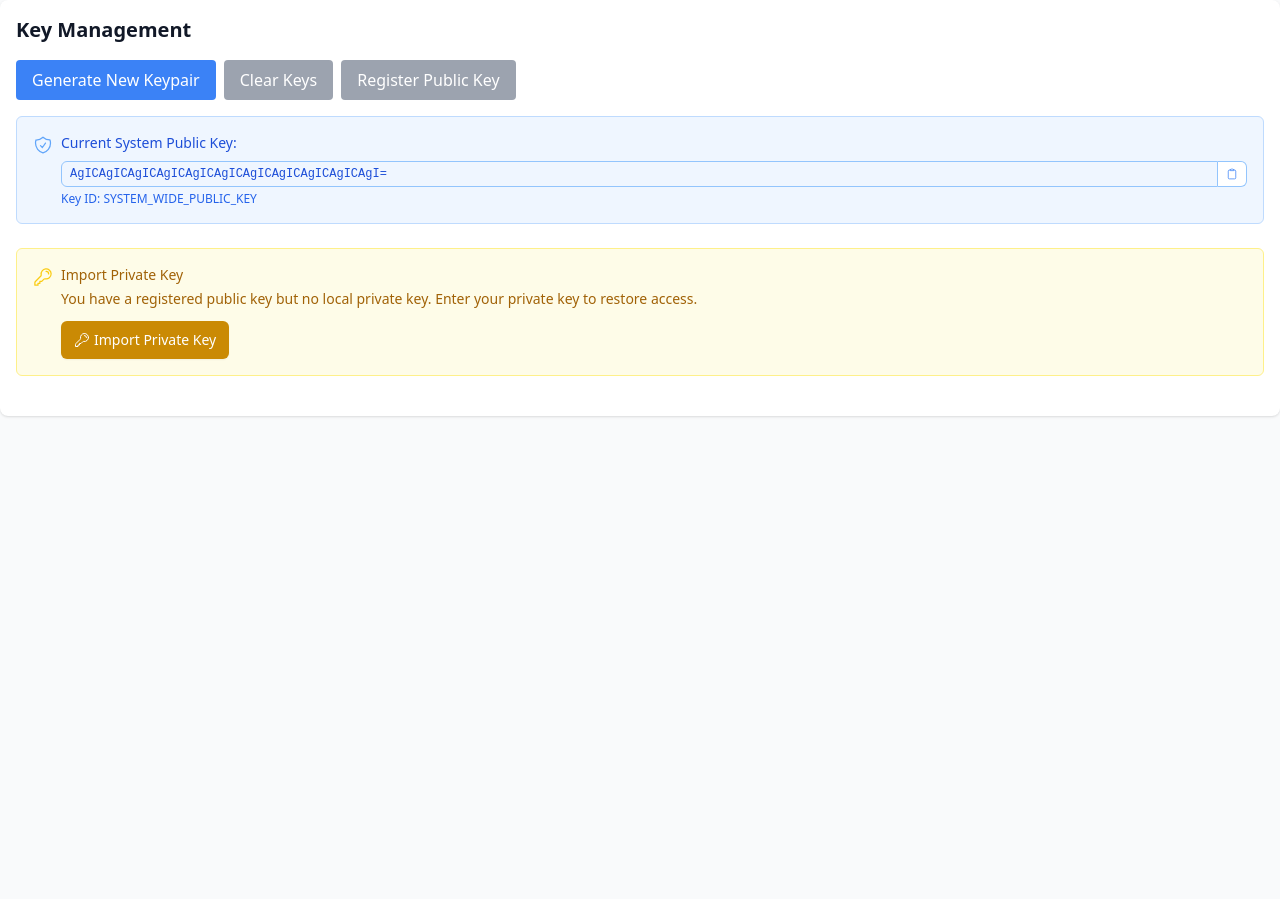
Test: Key lifecycle workflow › shows security warnings for private key handling
The width and height of the screenshot is (1280, 899).
# Generate a new keypair to see private key security warning
Click the button "Generate New Keypair". click: [116, 80]
box: x1=16 y1=60 x2=216 y2=100
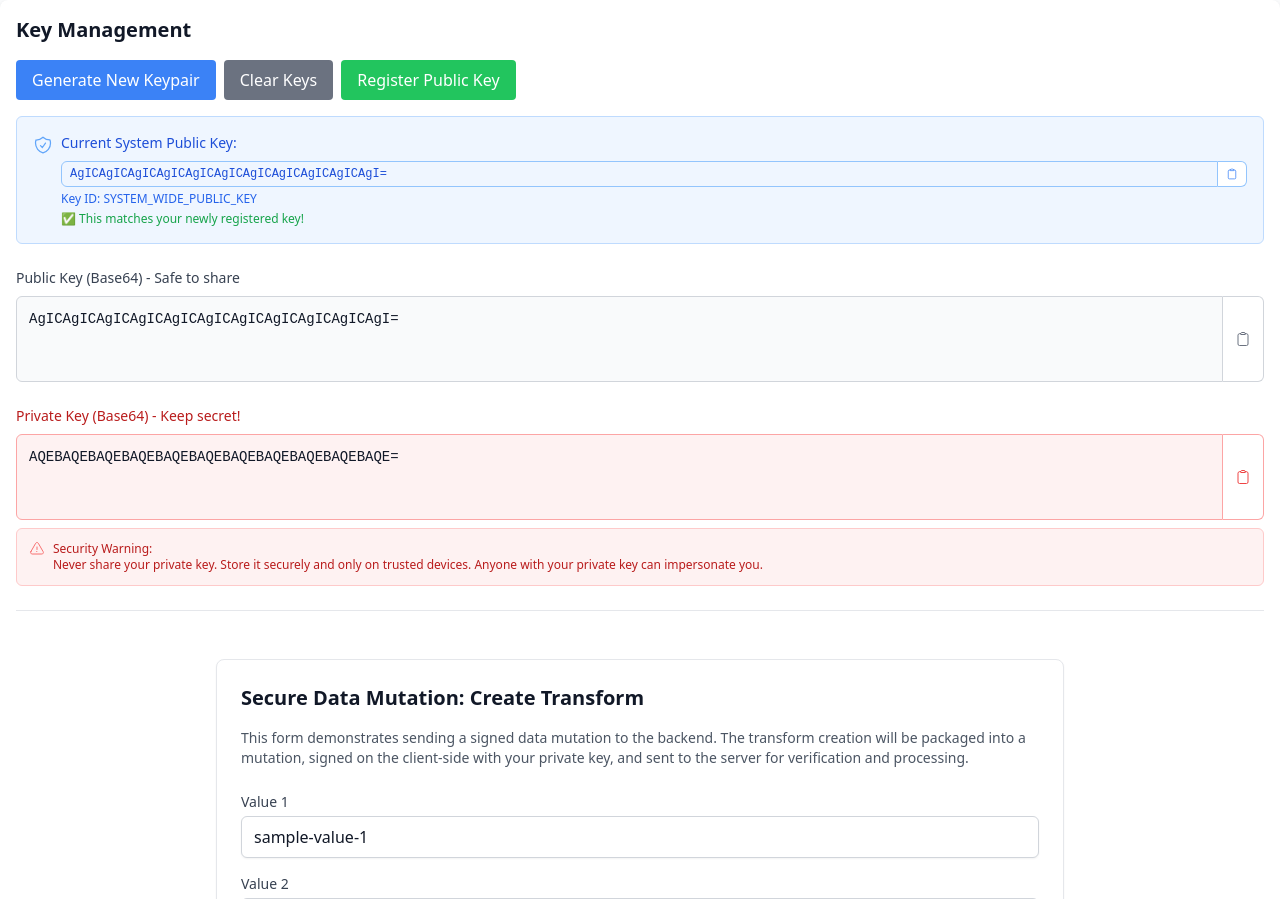
Now the text "Store it securely and only on trusted devices" is shown, box x1=53 y1=556 x2=763 y2=573
# Clear keys to show import section
Click the button "Clear Keys". click: [278, 80]
box: x1=224 y1=60 x2=333 y2=100
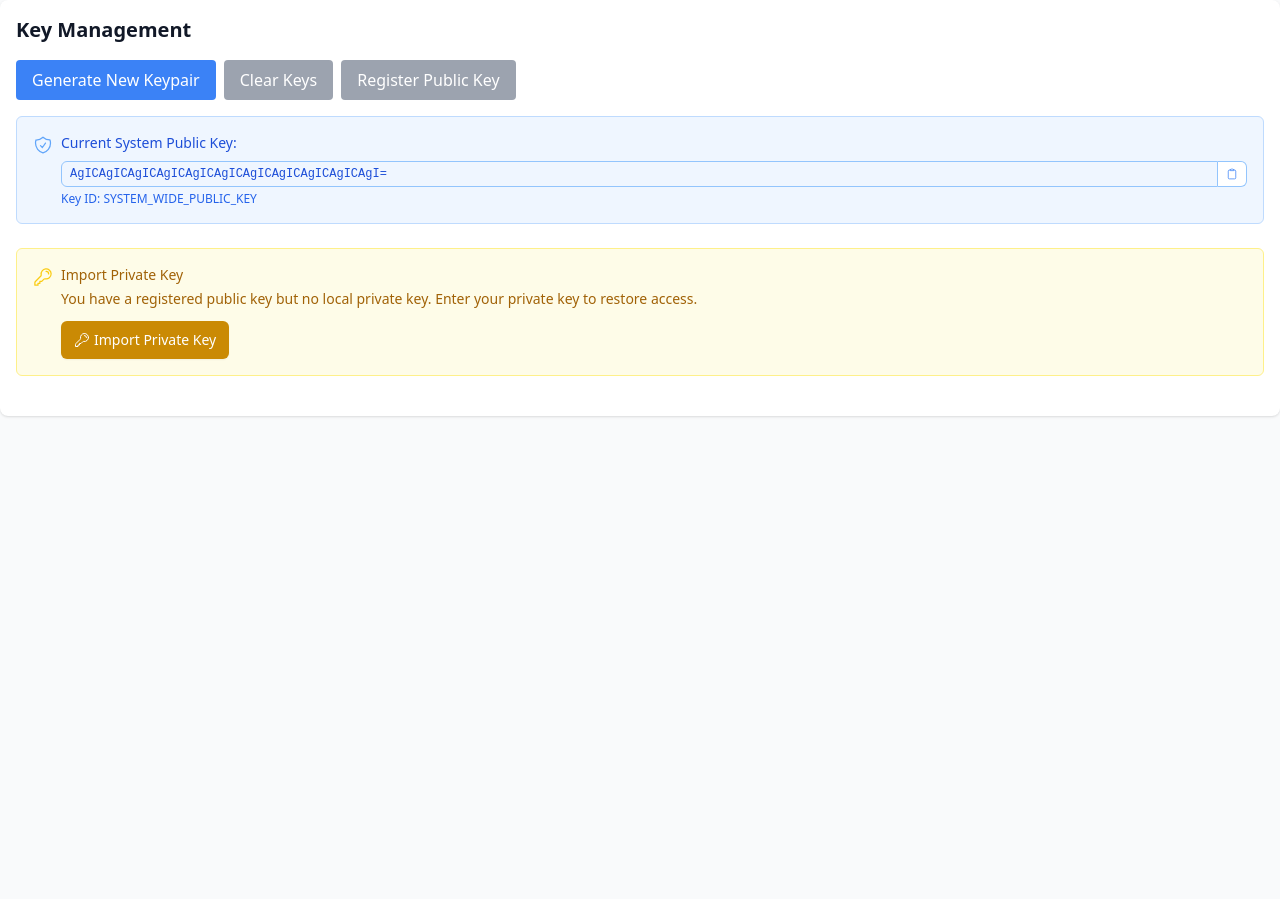
Now the button "Import Private Key" is shown
# Click import to show security warning in import form
Click the button "Import Private Key". click: [145, 340]
box: x1=61 y1=321 x2=229 y2=359
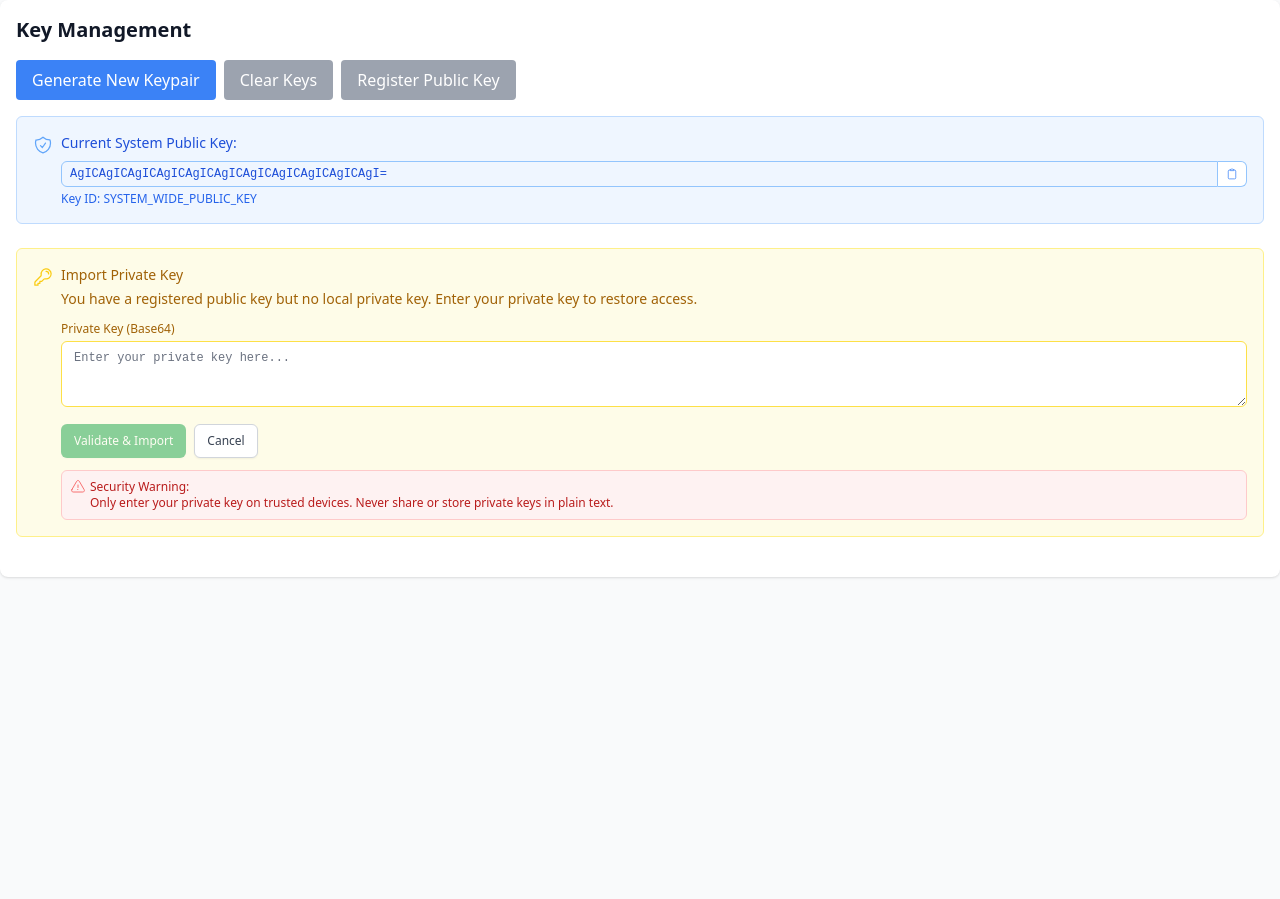
Now the text "Never share or store private keys in plain text" is shown, box x1=90 y1=494 x2=614 y2=511
